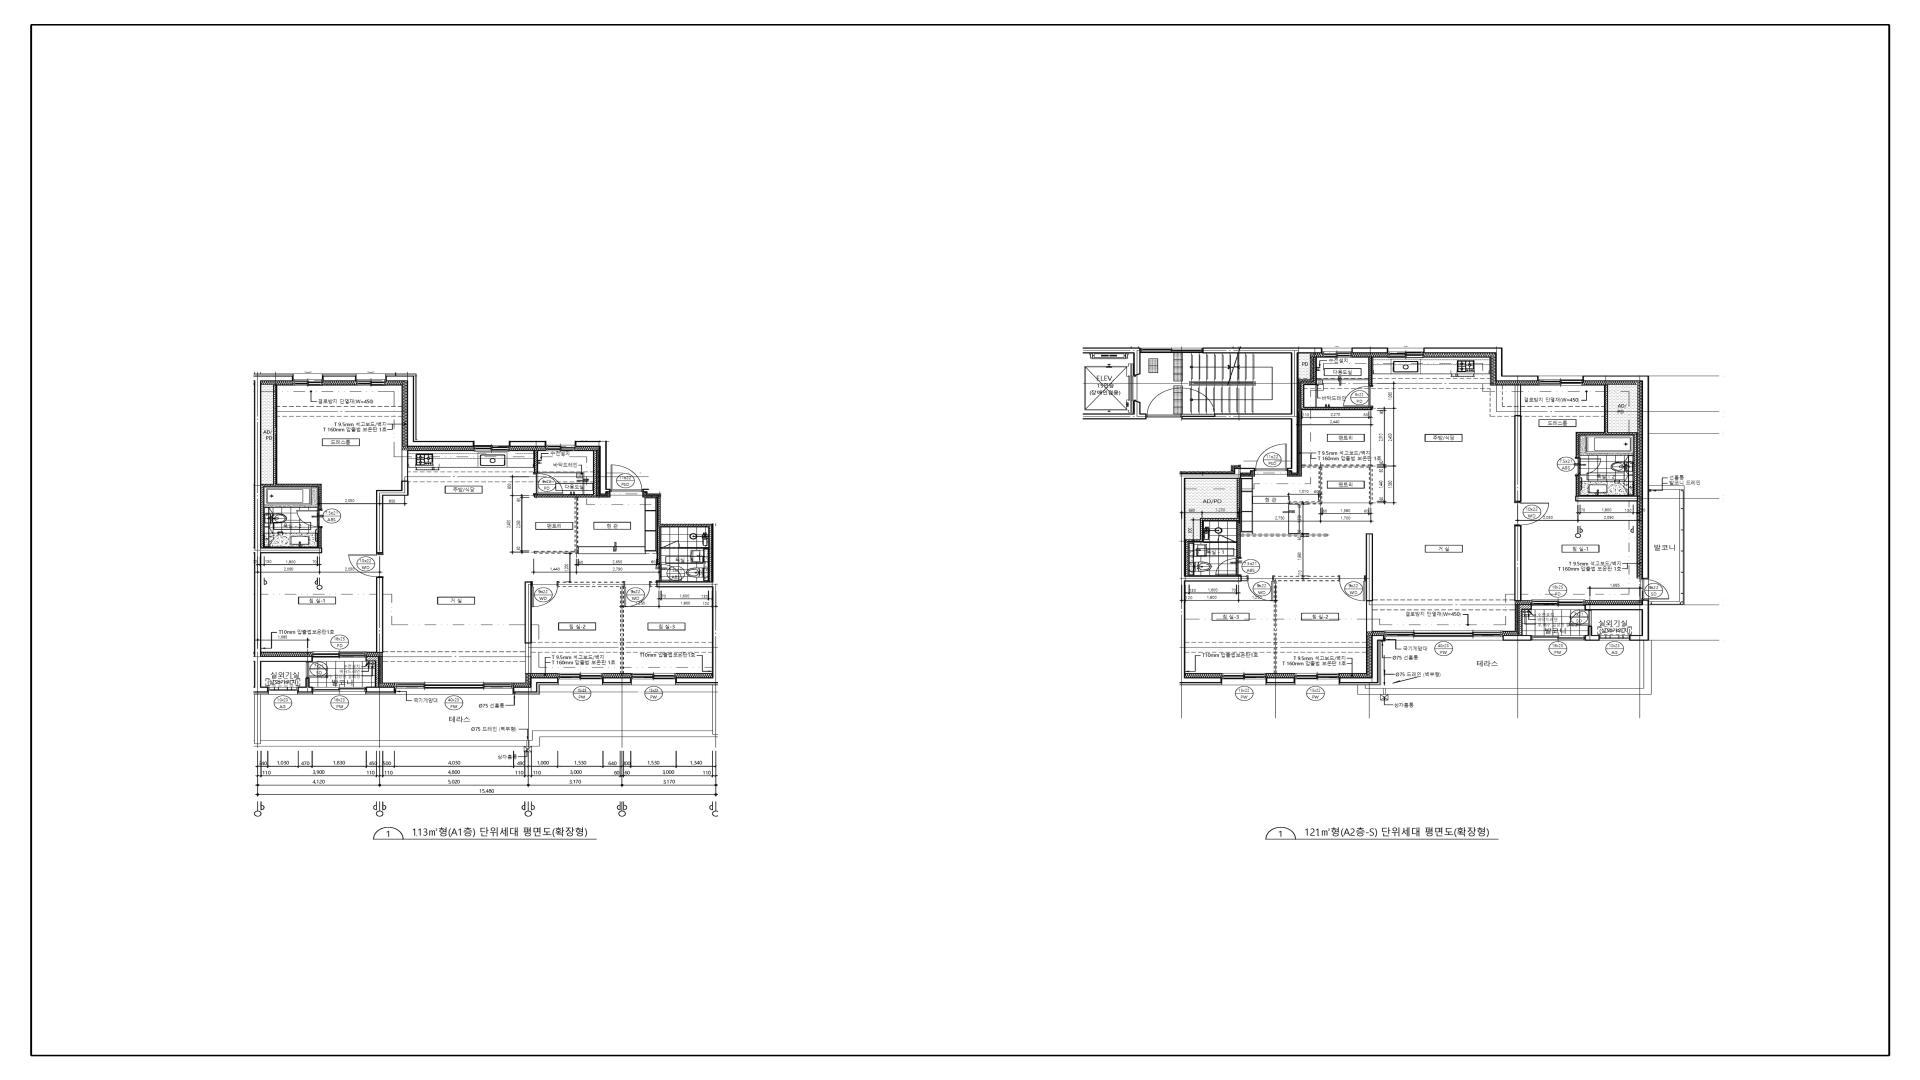door: (1146, 388, 1182, 418), (1255, 443, 1287, 472), (611, 464, 642, 492), (348, 554, 384, 578), (1514, 502, 1549, 526), (624, 582, 650, 608), (531, 582, 558, 608), (1338, 576, 1366, 601), (1247, 576, 1274, 601), (1344, 385, 1373, 407), (533, 473, 563, 495), (1642, 579, 1669, 600), (1215, 558, 1242, 576), (297, 509, 323, 527), (1576, 458, 1602, 476), (655, 564, 682, 582), (1568, 611, 1592, 626), (306, 662, 328, 678), (1217, 534, 1236, 543), (662, 541, 680, 549)
wall: (1582, 376, 1684, 641), (255, 376, 322, 692), (1182, 347, 1321, 473), (1182, 468, 1255, 683), (1185, 479, 1328, 576), (657, 524, 719, 683), (261, 385, 322, 547), (1576, 385, 1638, 501), (534, 450, 597, 554), (385, 376, 475, 447), (1274, 576, 1338, 674), (558, 582, 624, 674), (657, 497, 711, 582), (1300, 356, 1373, 410), (1424, 348, 1539, 381), (1288, 464, 1373, 505), (376, 450, 409, 554), (1340, 636, 1385, 683), (575, 440, 611, 495), (1083, 348, 1141, 376), (1083, 401, 1146, 419), (1514, 385, 1522, 502), (513, 678, 559, 692), (1366, 534, 1373, 632), (525, 582, 531, 674), (1514, 526, 1522, 601), (376, 578, 384, 653), (365, 657, 378, 687), (1519, 604, 1531, 636), (509, 440, 546, 447), (298, 678, 313, 692), (1585, 626, 1600, 641), (1352, 348, 1389, 353), (323, 376, 356, 381), (365, 687, 396, 692), (1266, 678, 1295, 683), (603, 678, 632, 683), (1503, 636, 1532, 641), (1369, 356, 1373, 385), (534, 450, 538, 473), (318, 527, 322, 547), (650, 582, 657, 587), (1242, 576, 1247, 582)
window: (396, 683, 513, 695), (1385, 630, 1503, 641), (559, 673, 603, 686), (632, 673, 675, 686), (1531, 600, 1585, 611), (313, 651, 365, 662), (1295, 673, 1340, 683), (1539, 376, 1582, 386), (313, 687, 365, 695), (1221, 674, 1266, 683), (1141, 347, 1203, 353), (475, 440, 509, 452), (293, 373, 323, 386), (356, 373, 385, 386), (1389, 348, 1424, 359), (546, 440, 575, 451), (1321, 348, 1352, 357), (1532, 636, 1585, 641), (269, 687, 298, 695), (1600, 636, 1630, 641)
